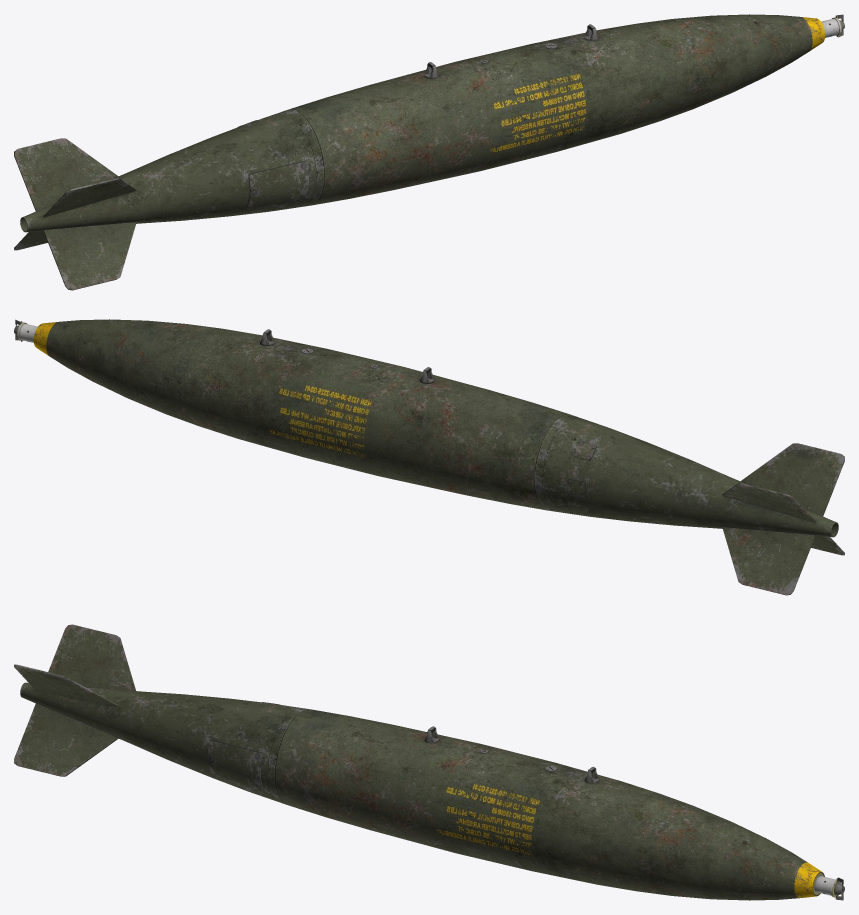
3 views of the same model, one above another, from view 1: azimuth 30°, elevation 25°; view 2: azimuth 150°, elevation 25°; view 3: azimuth 330°, elevation 25° (orthographic).
Parts seen in each view (by area): view 1: Object_2; view 2: Object_2; view 3: Object_2.
Part boxes in pixels (x1,y1,x2,y2): Object_2: (14,14,844,290); Object_2: (14,319,844,595); Object_2: (14,624,844,900).
Size of the model in its own units: 3.87 by 0.5081 by 0.458.
Materials: 1 (1 with a texture image).
